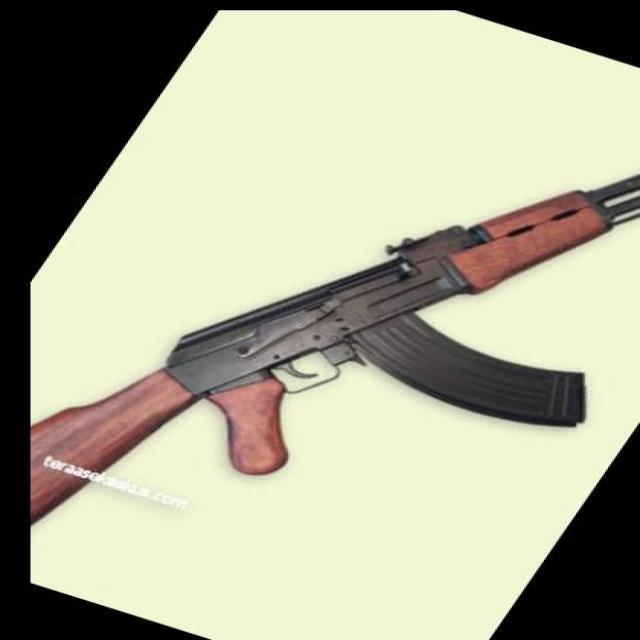weapon: (31, 175, 640, 526)
